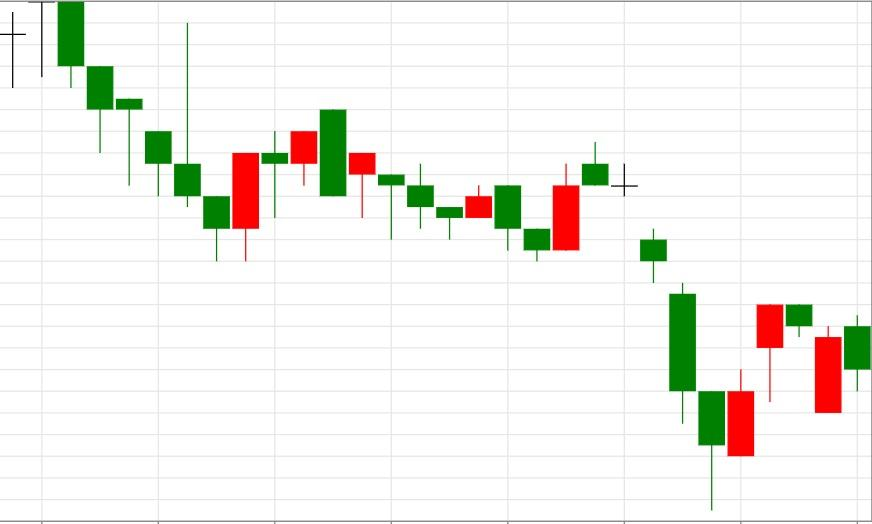bearish_engulfing_fall: (202, 110, 347, 260)
bullish_engulfing_rise: (58, 1, 260, 261)
